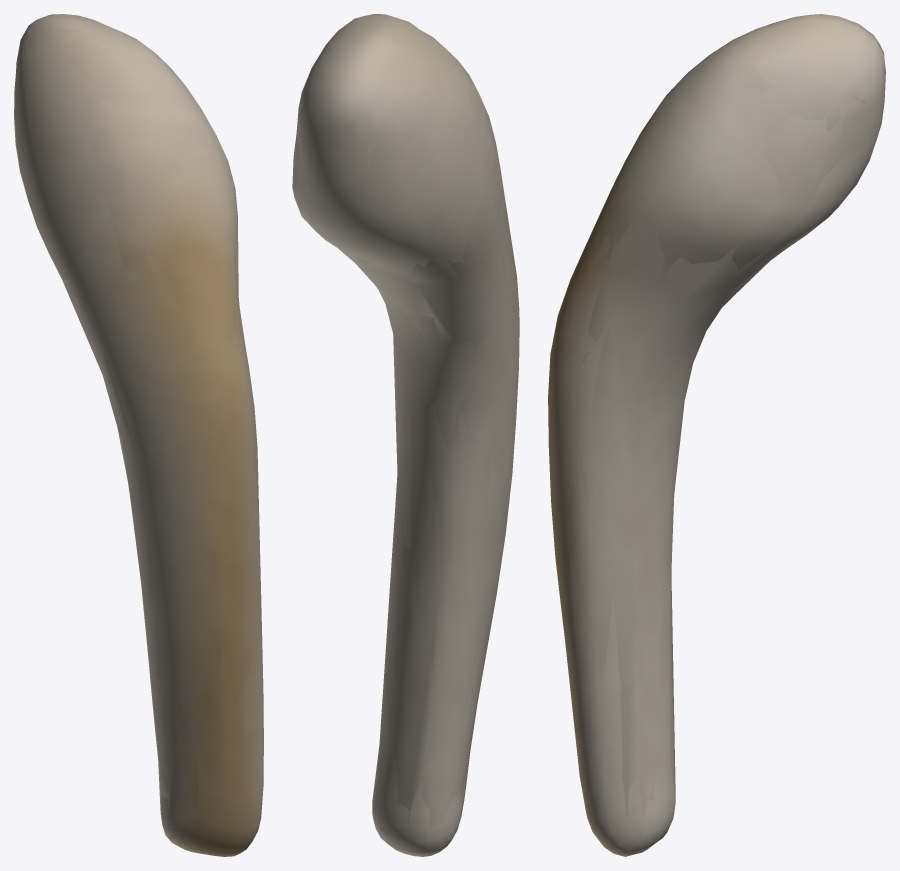
Rendered from L Ulna.fbx.
3 renders of one model, left to right at view 1: azimuth 30°, elevation 25°; view 2: azimuth 150°, elevation 25°; view 3: azimuth 270°, elevation 25°, orthographic. The views are drawn at different scales.
Parts seen in each view (by area): view 1: L Ulna, L Ulna low; view 2: L Ulna, L Ulna low; view 3: L Ulna, L Ulna low.
Part boxes in pixels (x1,y1,x2,y2): L Ulna: (14, 14, 263, 856); L Ulna low: (17, 14, 262, 855); L Ulna: (292, 14, 519, 856); L Ulna low: (292, 14, 519, 855); L Ulna: (548, 14, 885, 856); L Ulna low: (553, 14, 882, 856).
Bounding box in the file's own units: 2.41 × 11.17 × 4.25.
